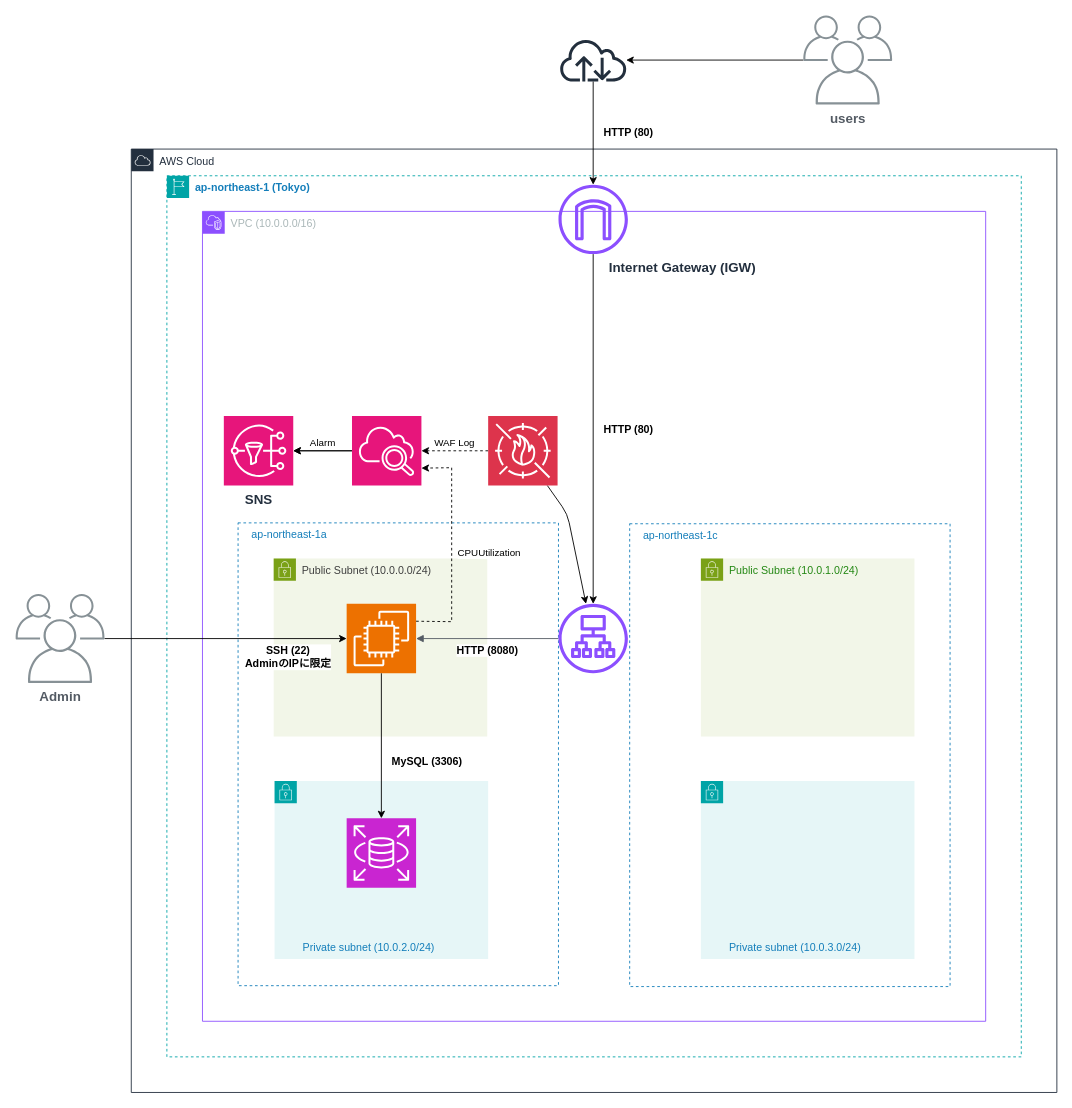
This 1072x1108 diagram has some shape labels left out. The centre of each missing label's shape, as x and y in pixels:
"Application Load Balancer" goes at pixel 592 638.
"AWS WAF" goes at pixel 522 450.
"CloudWatch" goes at pixel 386 450.
"EC2" goes at pixel 381 638.
"inter-net" goes at pixel 592 59.
"RDS" goes at pixel 381 852.
